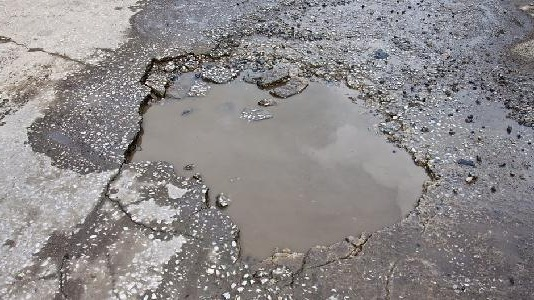pothole: (119, 48, 440, 265)
